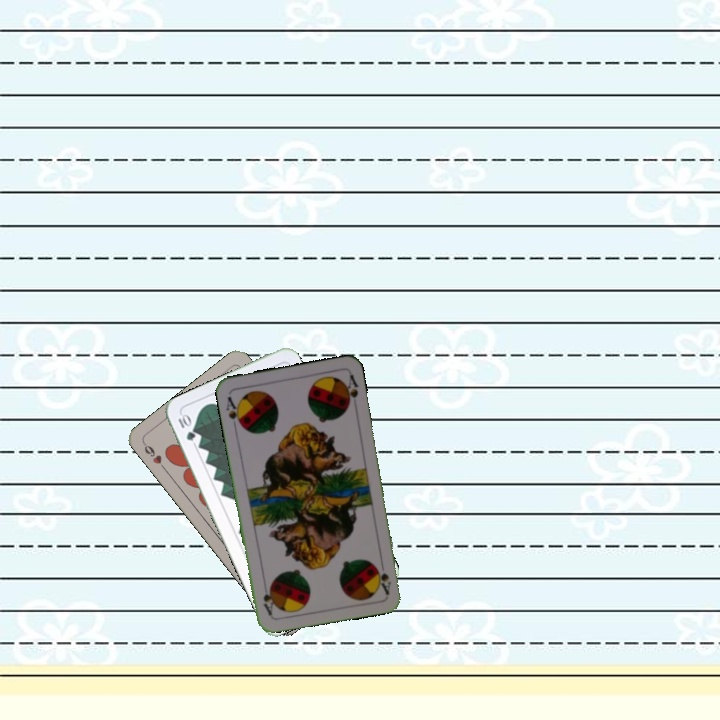G10: (174, 410, 198, 443)
H9: (139, 439, 169, 473)
SA: (222, 392, 245, 432), (372, 556, 393, 597)
